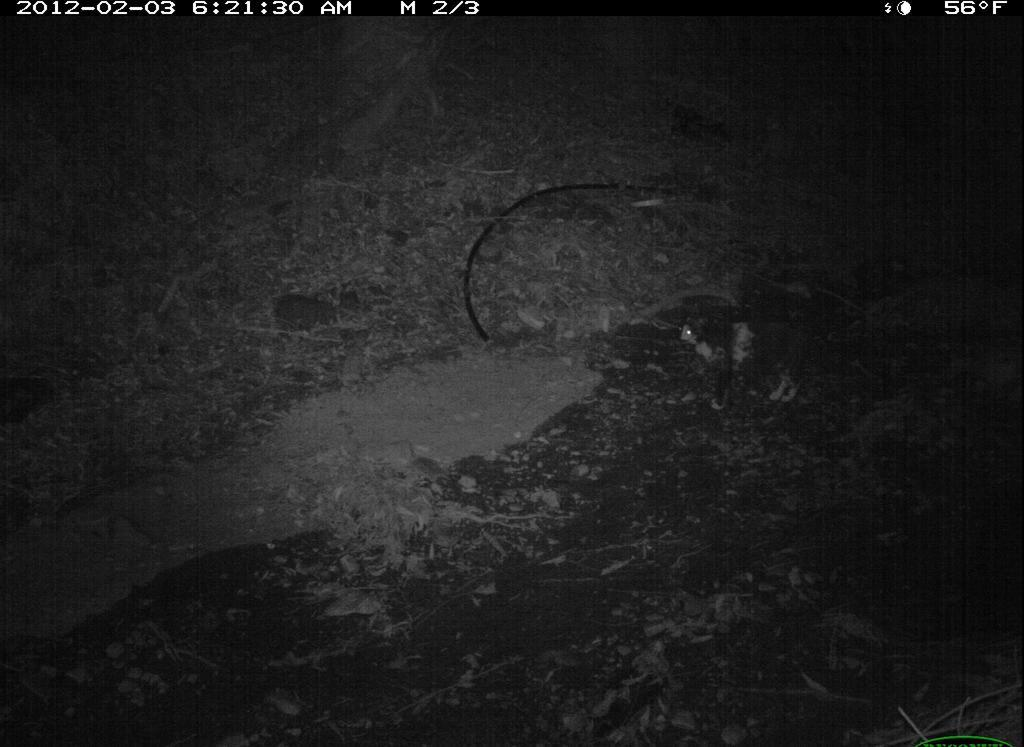cat: (667, 294, 824, 423)
